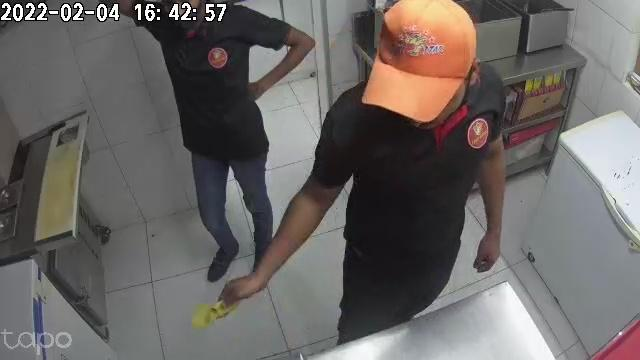no_gloves: (473, 228, 500, 275)
